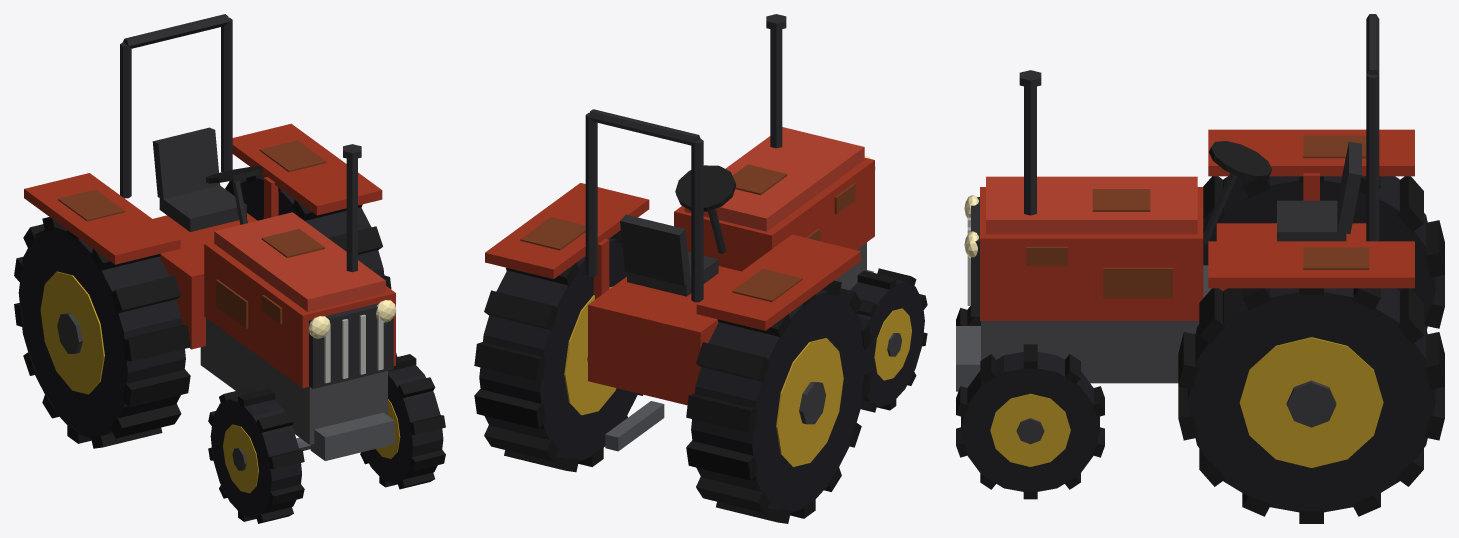
File: tractor.glb
3 views of the same model, side by side, from view 1: azimuth 30°, elevation 25°; view 2: azimuth 150°, elevation 25°; view 3: azimuth 270°, elevation 25° (orthographic). The views are drawn at different scales.
Parts seen in each view (by area): view 1: wheel_RR_tire, wheel_RR, hood_top, hood, engine_block, fender_1, wheel_FR_tire, fender, wheel_RR_rim, wheel_FL_tire, grille, gearbox (+19 smaller); view 2: wheel_RR_tire, wheel_RL_tire, gearbox, wheel_RR, wheel_RL, hood, hood_top, fender_1, fender, wheel_RR_rim, wheel_FR_tire, seat_back (+16 smaller); view 3: wheel_RL_tire, hood, wheel_RL_rim, hood_top, wheel_FL_tire, engine_block, wheel_RL, fender, wheel_RR_tire, fender_1, wheel_RR, wheel_FL_rim (+17 smaller).
Boxes of the visible parts, <box> form: wheel_RR_tire: <box>18,225,185,438</box>; wheel_RR: <box>14,217,190,448</box>; hood_top: <box>214,212,385,311</box>; hood: <box>204,241,395,388</box>; engine_block: <box>200,318,387,444</box>; fender_1: <box>24,173,180,264</box>; wheel_FR_tire: <box>210,397,301,518</box>; fender: <box>232,123,382,215</box>; wheel_RR_rim: <box>40,271,104,394</box>; wheel_FL_tire: <box>363,365,443,484</box>; grille: <box>309,303,393,388</box>; gearbox: <box>153,213,257,349</box>; wheel_RR_tire: <box>691,289,866,512</box>; wheel_RL_tire: <box>479,238,638,461</box>; gearbox: <box>588,266,741,405</box>; wheel_RR: <box>686,280,871,523</box>; wheel_RL: <box>474,230,642,472</box>; hood: <box>674,157,874,271</box>; hood_top: <box>684,127,864,231</box>; fender_1: <box>696,234,860,330</box>; fender: <box>485,183,649,278</box>; wheel_RR_rim: <box>776,338,843,466</box>; wheel_FR_tire: <box>850,279,924,406</box>; seat_back: <box>620,214,690,285</box>; wheel_RL_tire: <box>1187,288,1435,512</box>; hood: <box>980,187,1203,320</box>; wheel_RL_rim: <box>1239,337,1383,467</box>; hood_top: <box>986,176,1197,234</box>; wheel_FL_tire: <box>961,352,1099,491</box>; engine_block: <box>981,265,1211,383</box>; wheel_RL: <box>1178,288,1444,523</box>; fender: <box>1208,241,1414,288</box>; wheel_RR_tire: <box>1203,176,1435,329</box>; fender_1: <box>1208,129,1414,176</box>; wheel_RR: <box>1203,176,1444,328</box>; wheel_FL_rim: <box>990,393,1070,466</box>.
Bounding box in the file's own units: 2.14 × 2.73 × 2.96.
